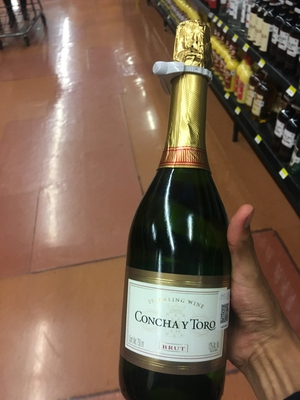brut: (103, 27, 238, 400)
